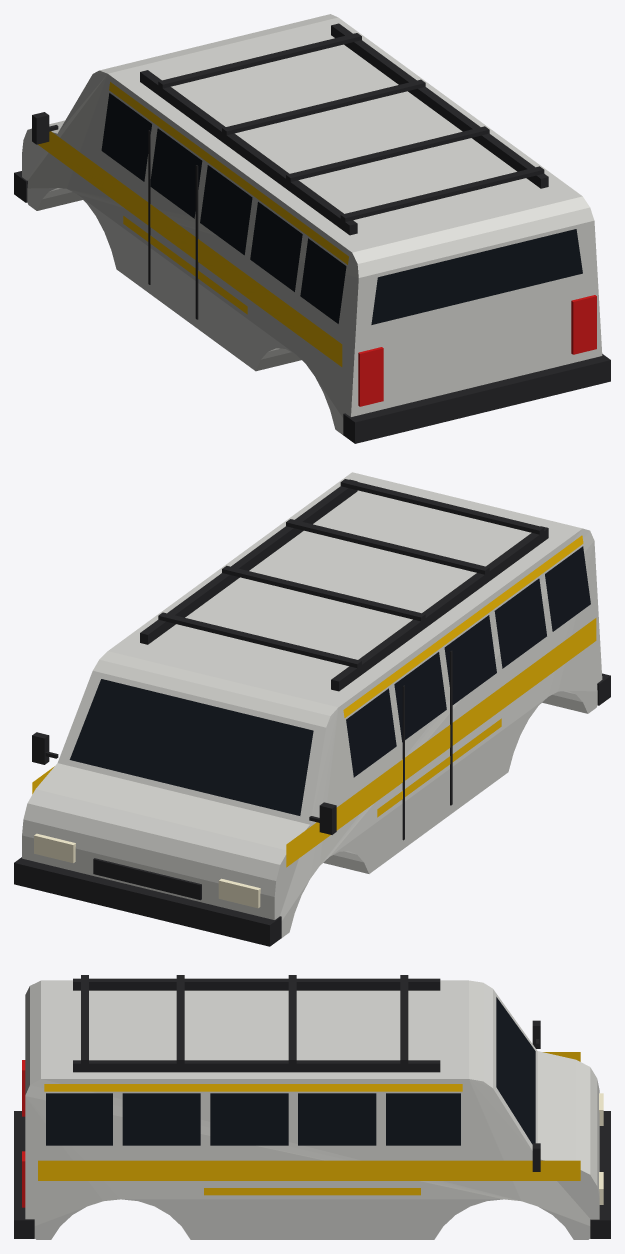
File: matatu.obj
3 views of the same model, one above another, from view 1: azimuth 30°, elevation 25°; view 2: azimuth 150°, elevation 25°; view 3: azimuth 270°, elevation 25° (orthographic). The views are drawn at different scales.
Parts seen in each view (by area): view 1: Body, Trim, Glass, Livery, TailLights; view 2: Body, Glass, Trim, Livery, Lights; view 3: Body, Glass, Livery, Trim, TailLights.
Boxes of the visible parts, left/top/right/bottom form: Body: left=22, top=14, right=602, bottom=435; Trim: left=14, top=23, right=610, bottom=443; Glass: left=101, top=93, right=582, bottom=324; Livery: left=38, top=82, right=348, bottom=366; TailLights: left=358, top=295, right=596, bottom=406; Body: left=22, top=472, right=602, bottom=937; Glass: left=69, top=546, right=590, bottom=815; Trim: left=14, top=479, right=610, bottom=946; Livery: left=32, top=535, right=596, bottom=867; Lights: left=34, top=833, right=260, bottom=908; Body: left=25, top=980, right=599, bottom=1239; Glass: left=46, top=997, right=535, bottom=1145; Livery: left=38, top=1052, right=580, bottom=1195; Trim: left=14, top=975, right=610, bottom=1238; TailLights: left=22, top=1060, right=25, bottom=1207.
Bounding box in the file's own units: 9.5 × 5.82 × 18.7.
